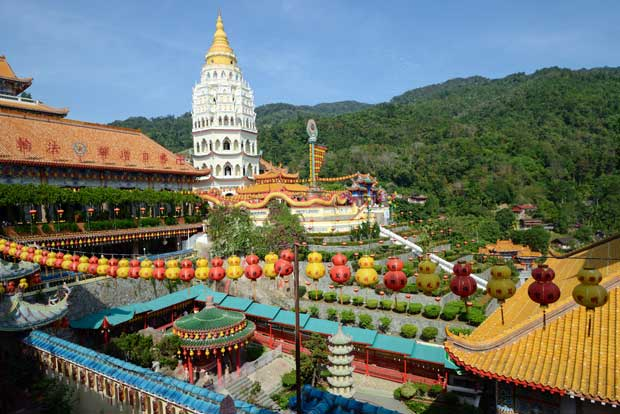Buddhist Temple: (189, 11, 258, 184)
